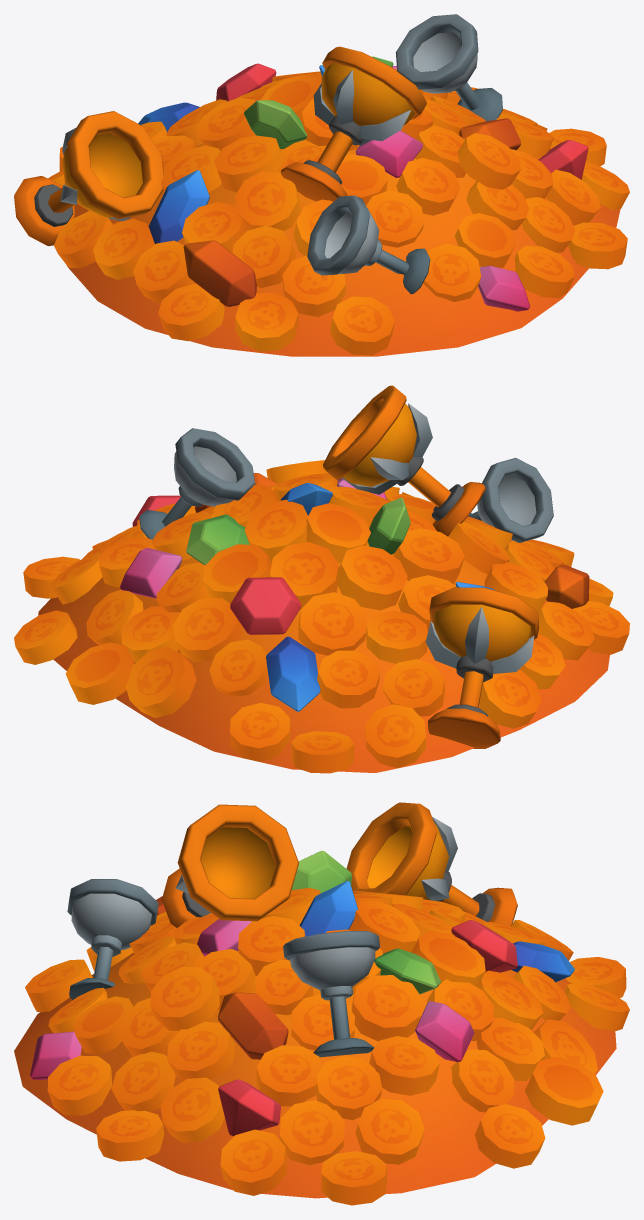
The model's file is gold.glb.
3 views of the same model, one above another, from view 1: azimuth 30°, elevation 25°; view 2: azimuth 150°, elevation 25°; view 3: azimuth 270°, elevation 25° (orthographic). The views are drawn at different scales.
Visible parts, largest first — view 1: GoldPileBig_001; view 2: GoldPileBig_001; view 3: GoldPileBig_001.
Boxes of the visible parts, x1,y1,x2,y2 form: GoldPileBig_001: (14,14,629,356); GoldPileBig_001: (14,385,629,773); GoldPileBig_001: (14,802,629,1205).
Bounding box in the file's own units: 2.87 × 1.19 × 2.67.
Materials: 2 (2 with a texture image).
